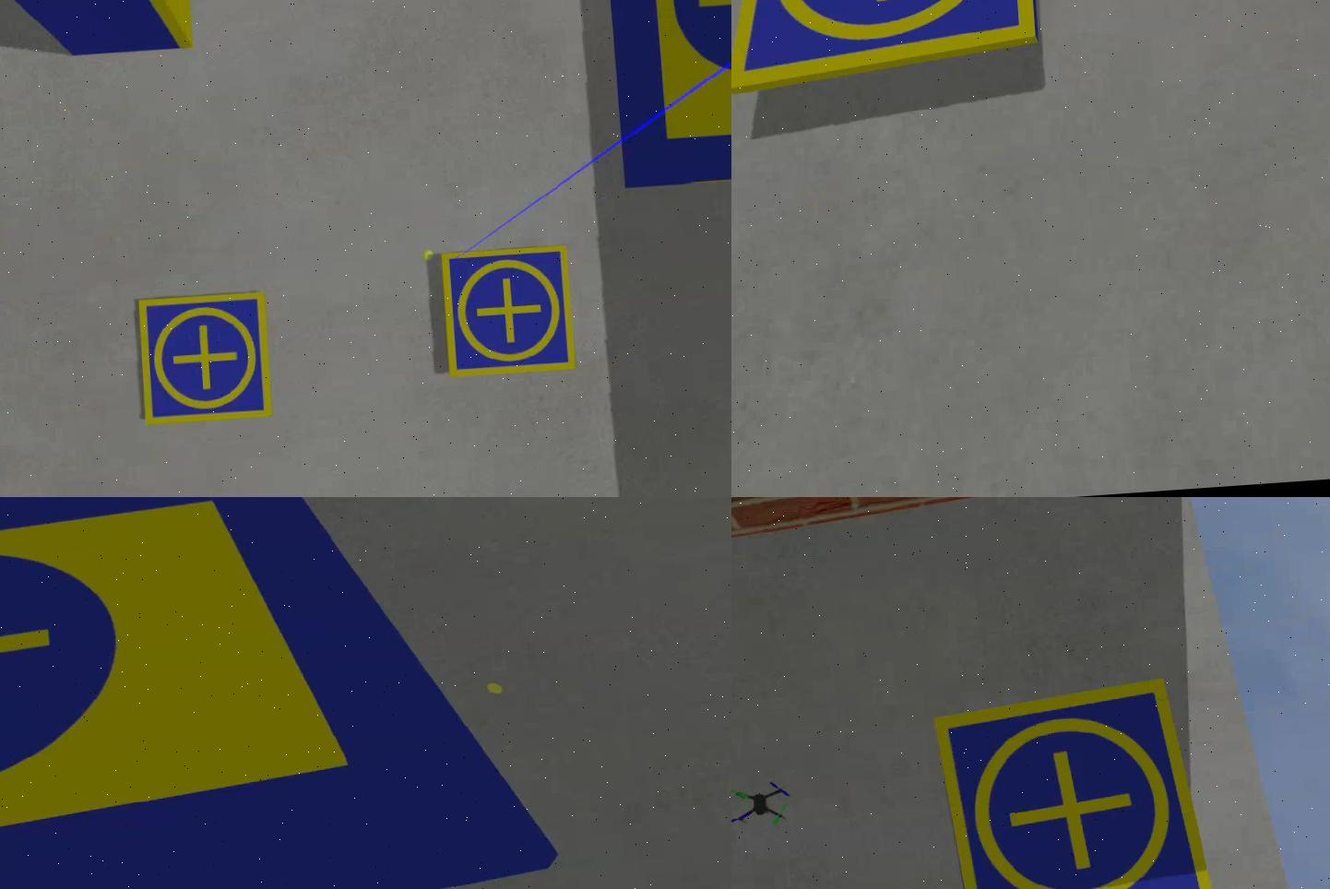large_base: (1, 498, 568, 889), (607, 1, 732, 192)
small_base: (934, 677, 1219, 889), (732, 1, 1049, 95), (136, 291, 276, 433), (438, 243, 579, 382)
